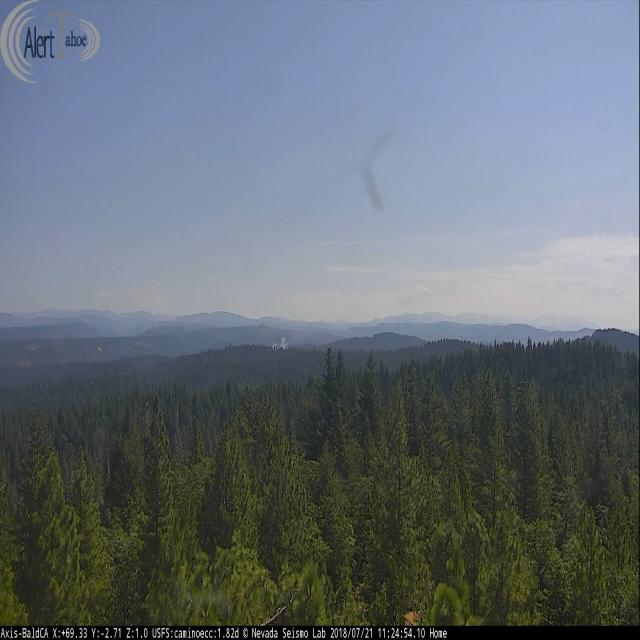smoke: (272, 333, 287, 351)
